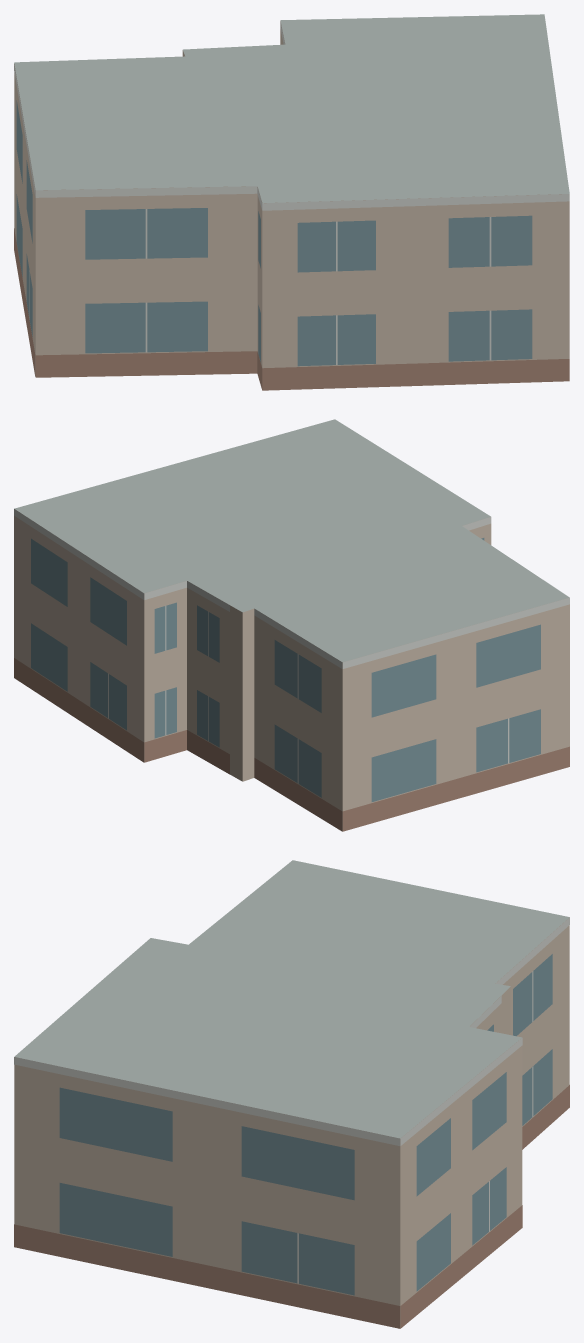
File: survey-upis-32890955.glb
3 renders of one model, top to bottom at view 1: azimuth 30°, elevation 25°; view 2: azimuth 150°, elevation 25°; view 3: azimuth 270°, elevation 25°, orthographic. The views are drawn at different scales.
Parts seen in each view (by area): view 1: survey-upis-32890955.tmp; view 2: survey-upis-32890955.tmp; view 3: survey-upis-32890955.tmp.
Boxes of the visible parts, box(x1,y1,x2,y2) form: survey-upis-32890955.tmp: box(14, 14, 569, 390); survey-upis-32890955.tmp: box(14, 419, 569, 831); survey-upis-32890955.tmp: box(14, 860, 569, 1328).
Size of the model in its own units: 18.84 by 6 by 15.89.
